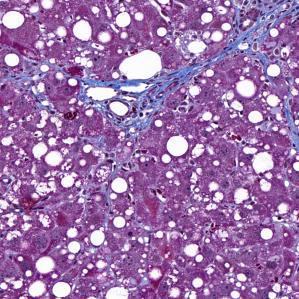fibrosis: (82, 78, 186, 134), (223, 0, 299, 65)
